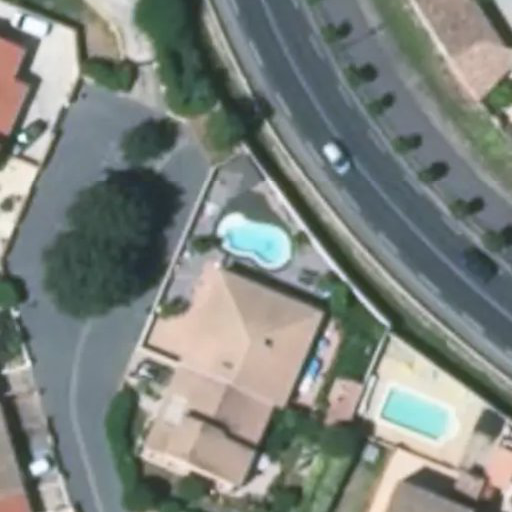pool: (217, 236, 294, 246)
